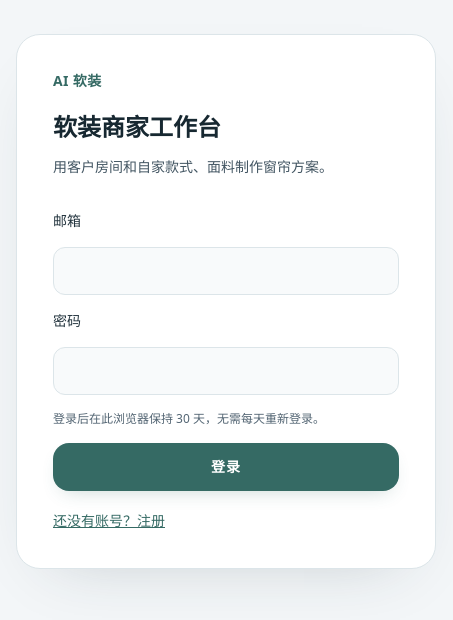
Test case: shows a recoverable error for a network login failure
Type "demo@example.com" into the field labelled "邮箱".
click(226, 270); type("demo@example.com")  # box left=53, top=246, right=399, bottom=294
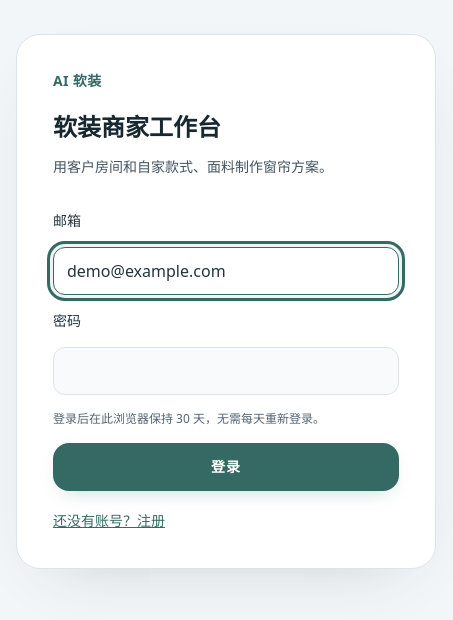
Type "demo123456" into the password field labelled "密码".
click(226, 370); type("demo123456")  # box left=53, top=346, right=399, bottom=394
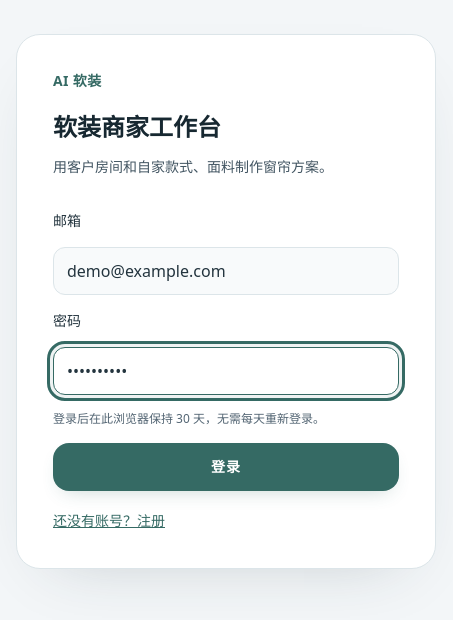
Click the button "登录".
click(226, 466)  # box left=53, top=442, right=399, bottom=490
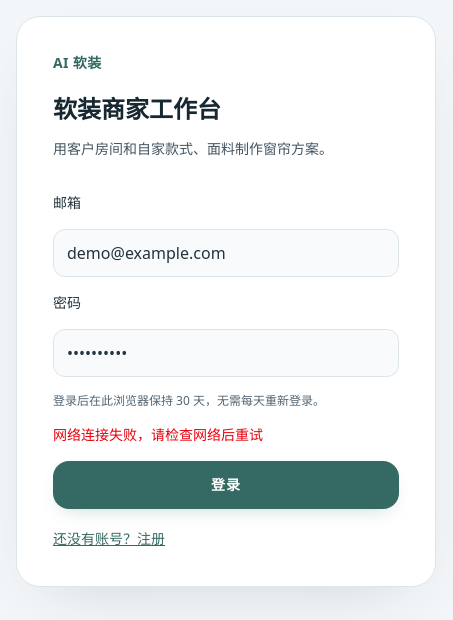
expect the button "登录" is enabled: met, box left=53, top=460, right=399, bottom=508
expect the message shows "重试": met, box left=53, top=424, right=263, bottom=444
